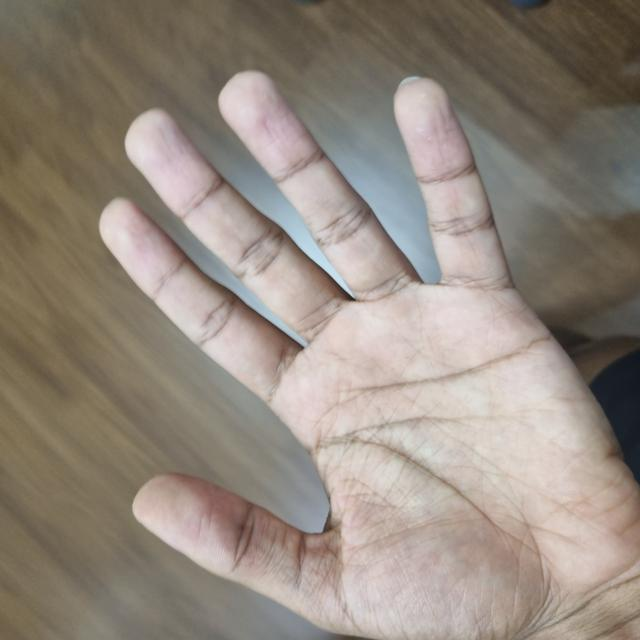Paper: (0, 104, 563, 639)
